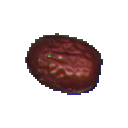gd: (13, 22, 105, 109)
